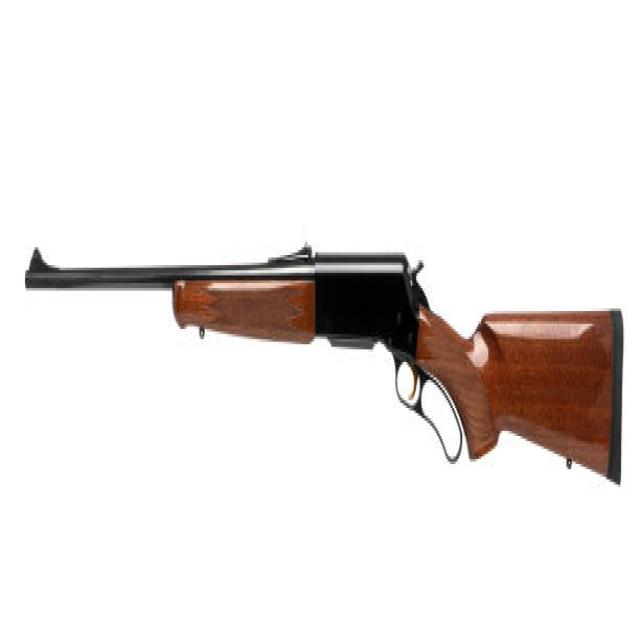rifle: (20, 236, 629, 504)
